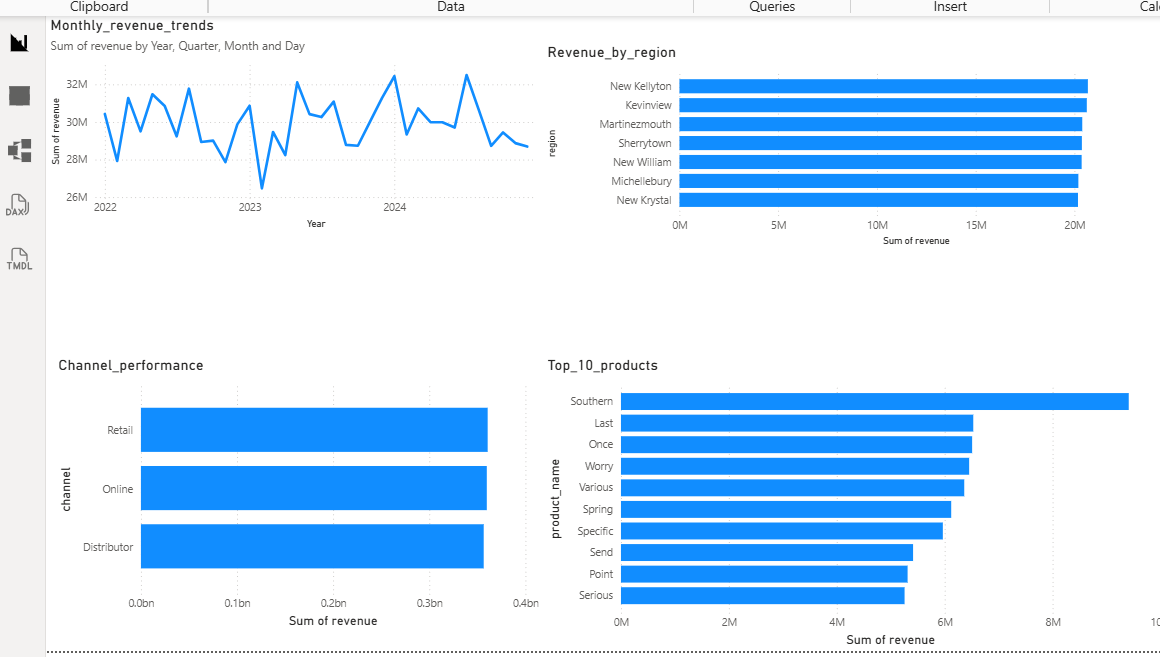

The page's visual inventory and layout, read from the dashboard file:
{"tool":"powerbi","page":{"name":"Page 1","canvas":[1280,720],"ordinal":0},"visuals":[{"type":"lineChart","title":"Monthly_revenue_trends","fields":{"Y":["Sum(Mobthly_revenue.revenue)"],"Category":["Mobthly_revenue.month.Variation.Date Hierarchy.Year","Mobthly_revenue.month.Variation.Date Hierarchy.Quarter","Mobthly_revenue.month.Variation.Date Hierarchy.Month","Mobthly_revenue.month.Variation.Date Hierarchy.Day"]},"box":[0,0,542,359.3],"z":0},{"type":"clusteredBarChart","title":"Revenue_by_region","fields":{"Category":["Revenue_region.region"],"Y":["Sum(Revenue_region.revenue)"]},"box":[542,0,738.5,385.4],"z":1},{"type":"clusteredBarChart","title":"Channel_performance","fields":{"Category":["channel_performance.channel"],"Y":["Sum(channel_performance.revenue)"]},"box":[9.2,385.4,554.3,334.7],"z":3},{"type":"clusteredBarChart","title":"Top_10_products","fields":{"Category":["top10_products.product_name"],"Y":["Sum(top10_products.revenue)"]},"box":[563.5,385.4,717,334.7],"z":4}]}

Visuals, with their boxes on the page's 1280x720 design canvas (x1, y1, x2, y2). These are canvas units, not pixel positions in the 1160x657 screenshot, which may show the page scaled, cropped or inside an application window:
"Monthly_revenue_trends" lineChart: <box>0,0,542,359</box>
"Revenue_by_region" clusteredBarChart: <box>542,0,1280,385</box>
"Channel_performance" clusteredBarChart: <box>9,385,564,720</box>
"Top_10_products" clusteredBarChart: <box>564,385,1280,720</box>
